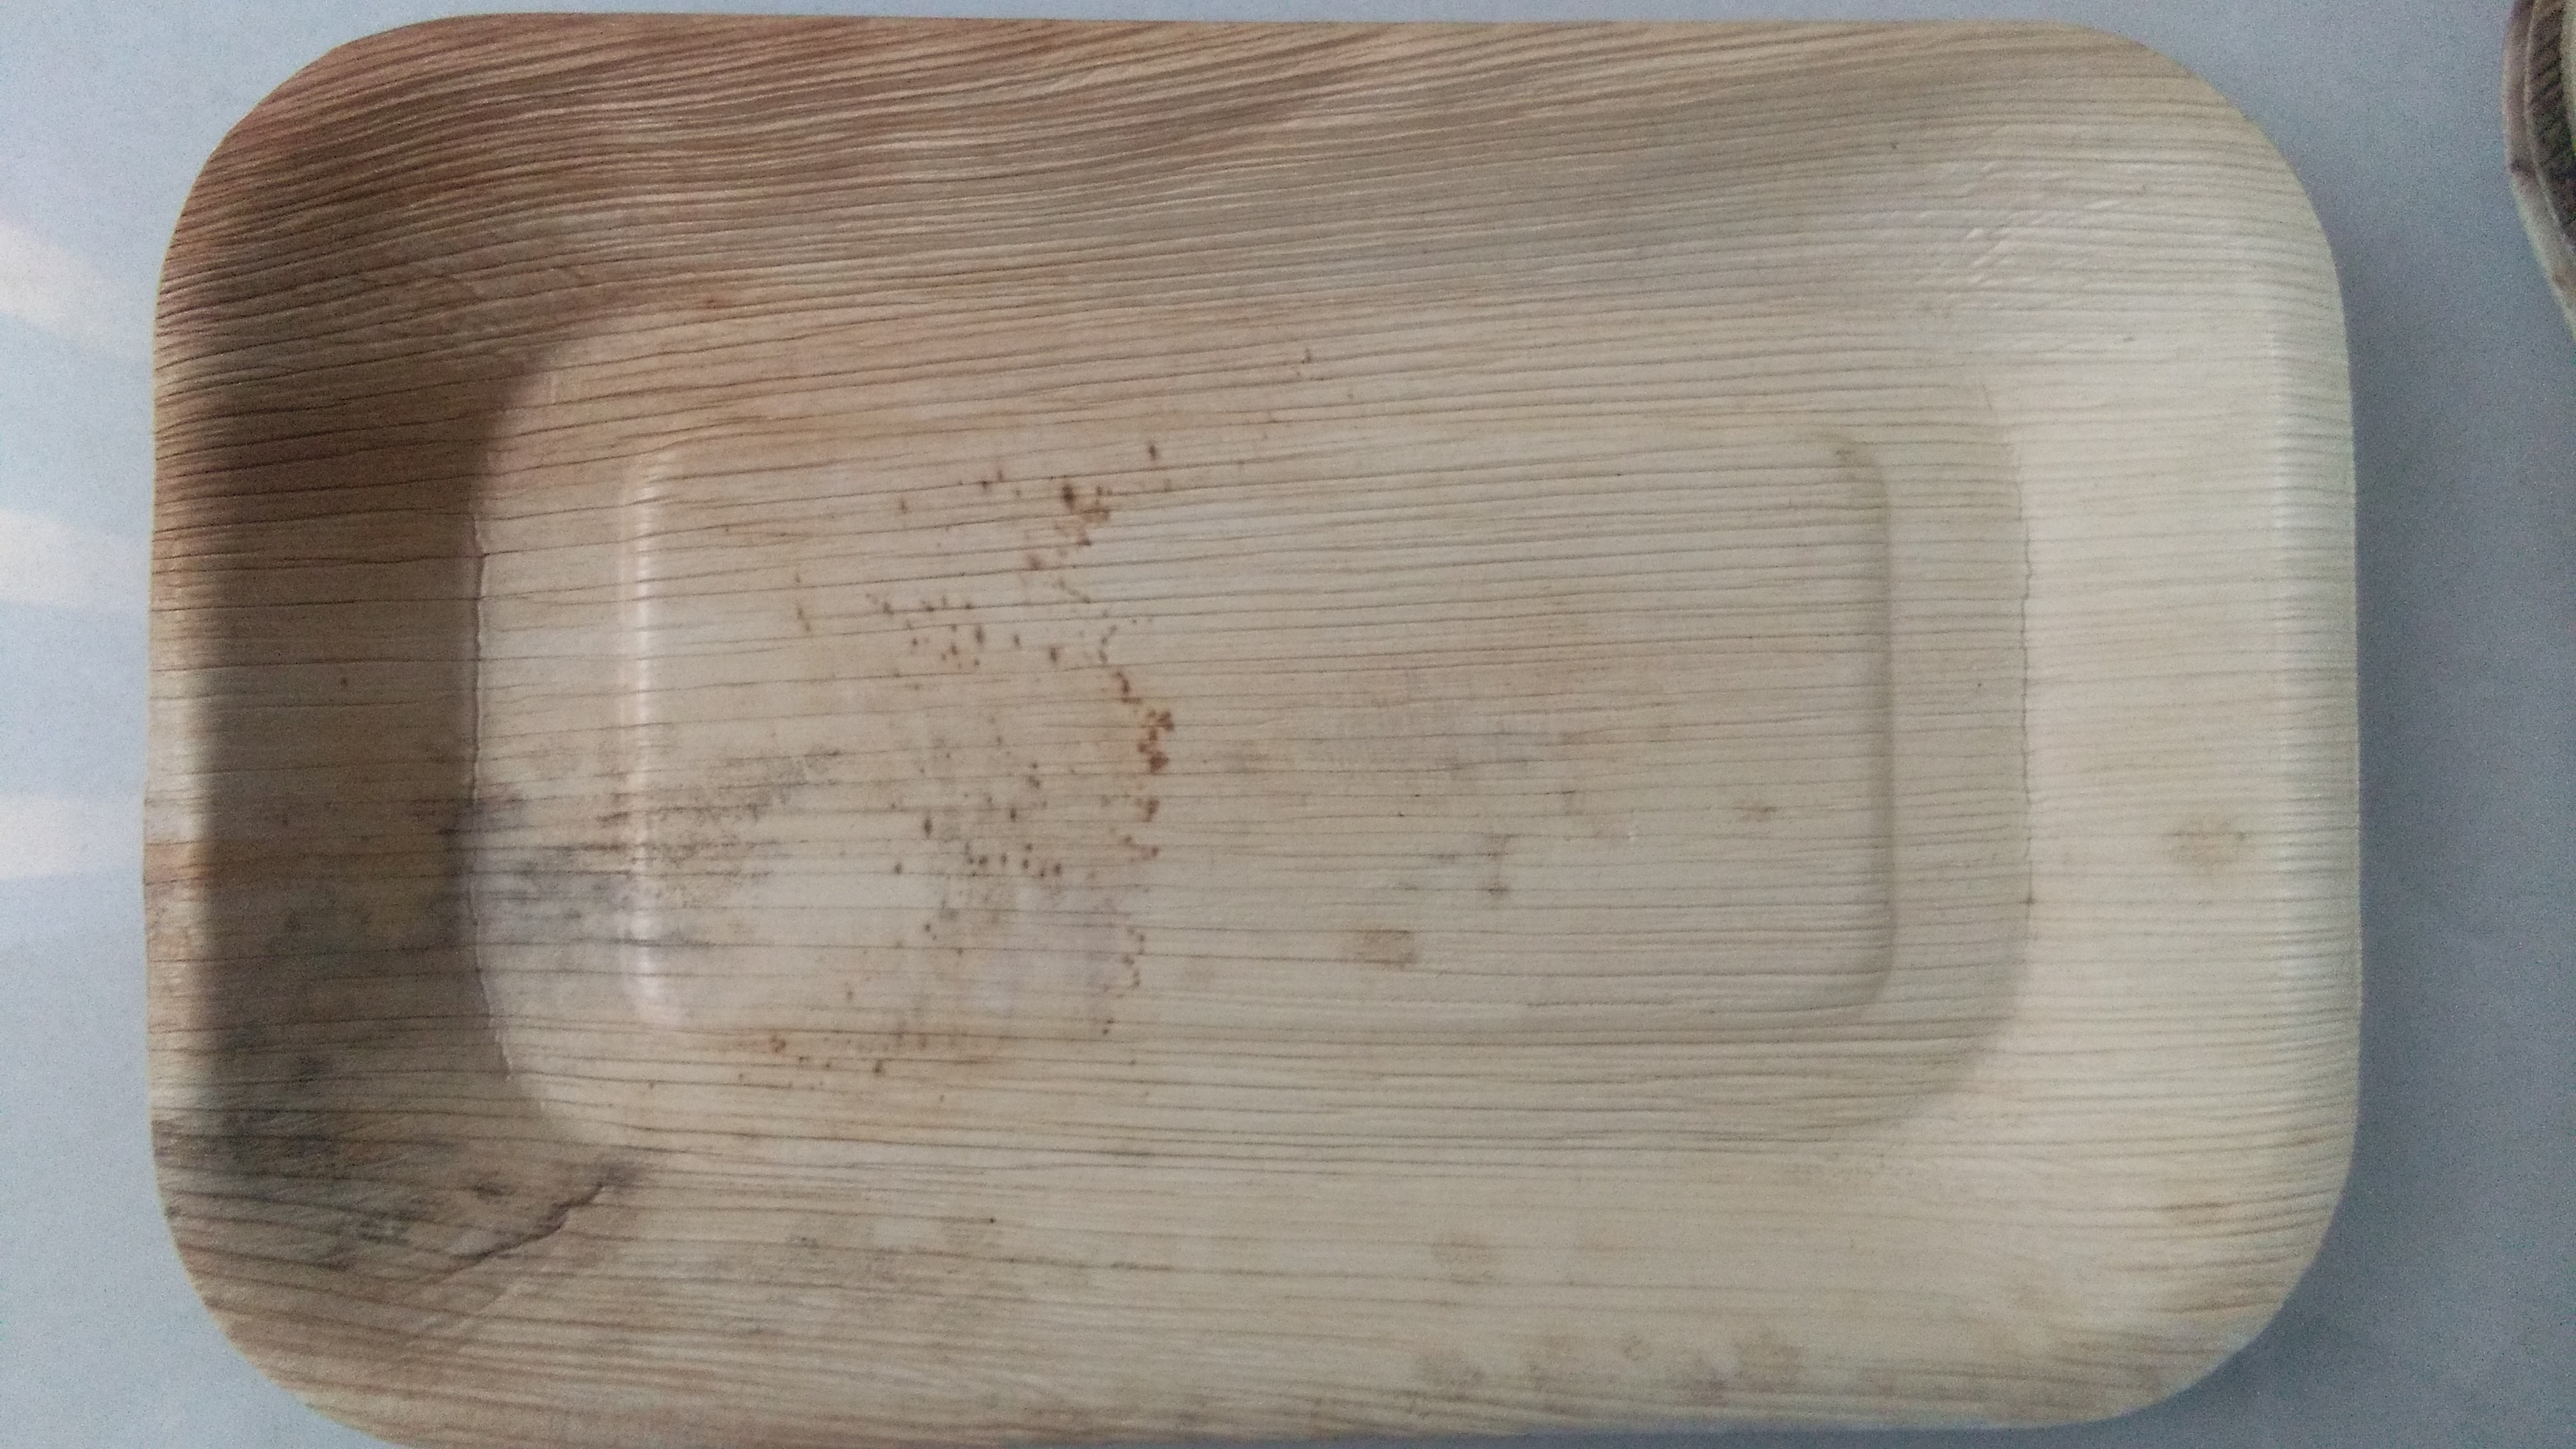areca plate: (145, 0, 2367, 1399)
